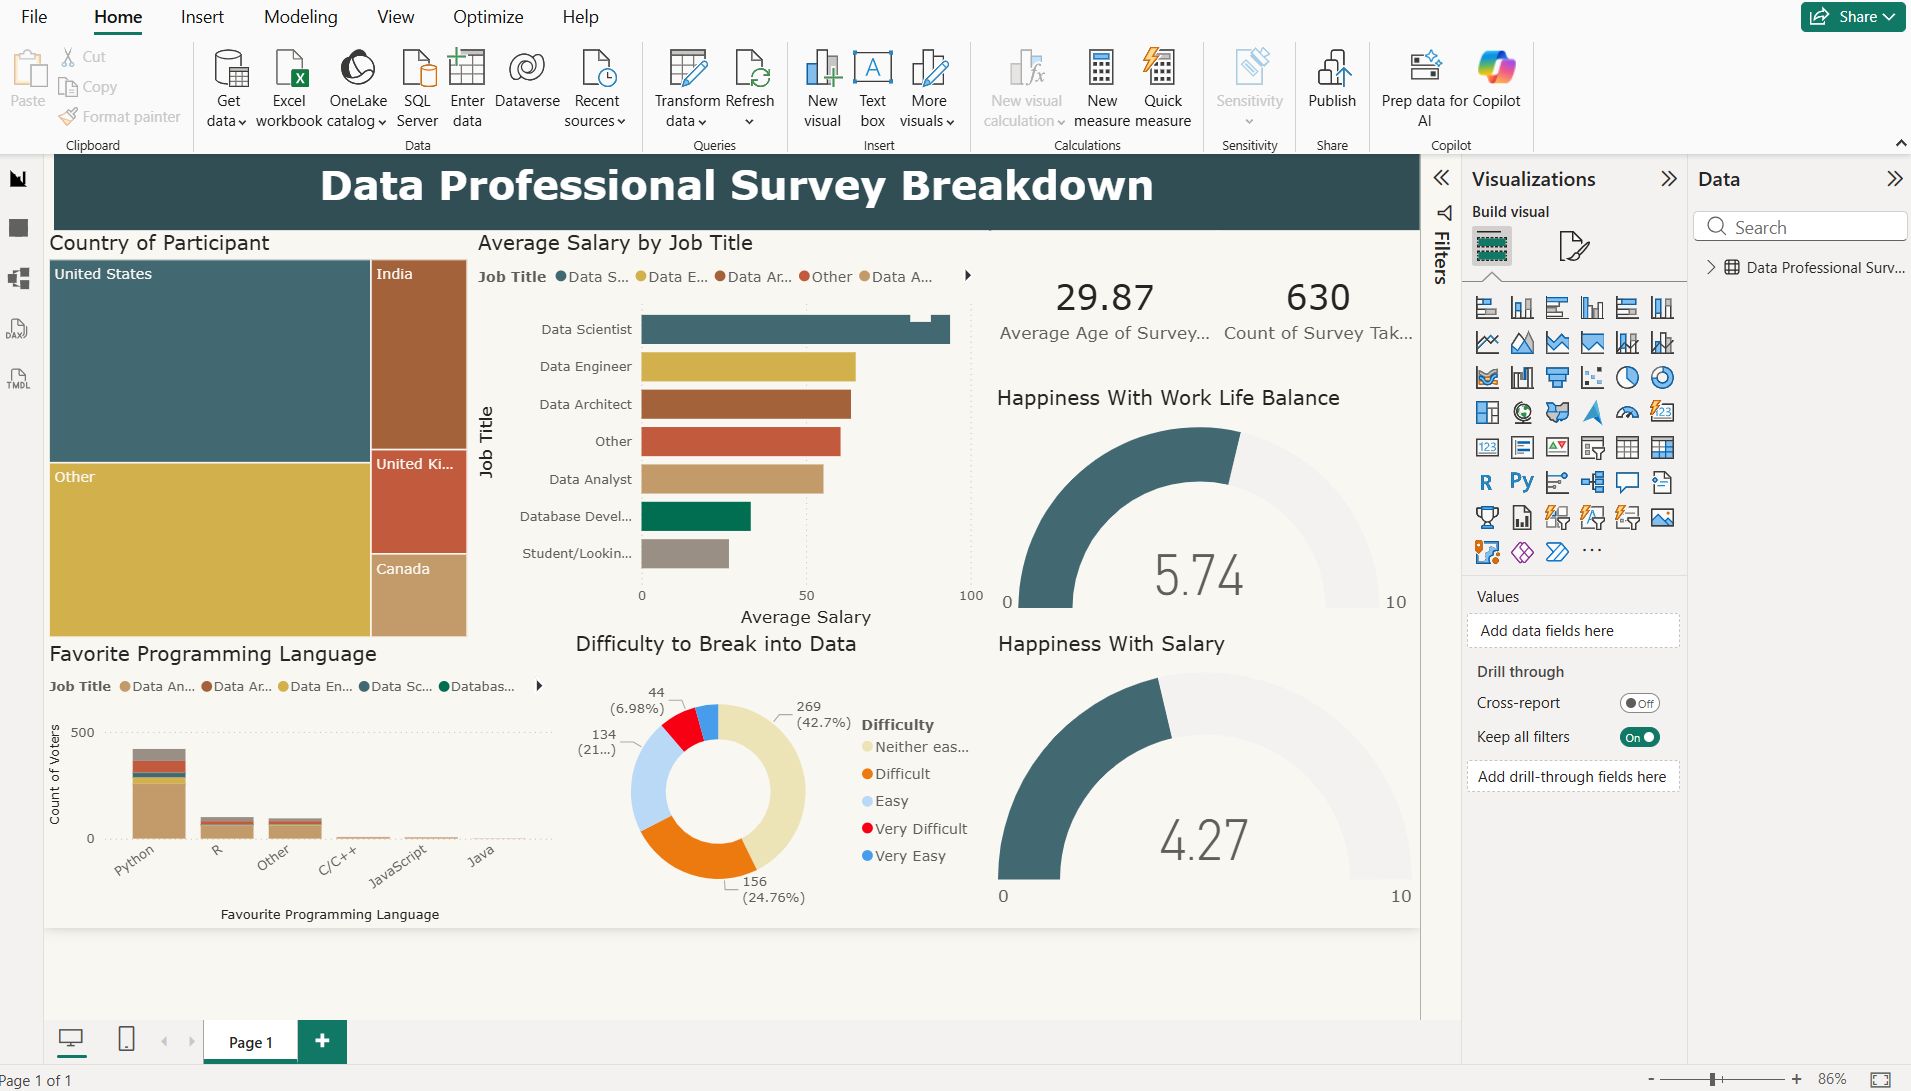

What the dashboard file says about the page in this screenshot:
{"tool":"powerbi","page":{"name":"Page 1","canvas":[1280,720],"ordinal":0},"visuals":[{"type":"textbox","box":[9.6,0,1270.7,71.4],"z":0},{"type":"card","fields":{"Values":["Count(Data Professional Survey.Unique ID)"]},"box":[1092.3,71.4,188,144.1],"z":1000},{"type":"card","fields":{"Values":["Avg(Data Professional Survey.Q10 - Current Age)"]},"box":[881,71.4,211.3,144.1],"z":2000},{"type":"barChart","title":"Average Salary by Job Title","fields":{"Category":["Data Professional Survey.Q1 - Which Title Best Fits your Current Role?.1"],"Y":["Avg(Data Professional Survey.Average Salary)"],"Series":["Data Professional Survey.Q1 - Which Title Best Fits your Current Role?.1"]},"box":[399.3,71.4,480.3,373.2],"z":3000},{"type":"columnChart","title":"Favorite Programming Language","fields":{"Category":["Data Professional Survey.Q5 - Favorite Programming Language.1"],"Y":["CountNonNull(Data Professional Survey.Unique ID)"],"Series":["Data Professional Survey.Q1 - Which Title Best Fits your Current Role?.1"]},"box":[0,454,480,266],"z":4000},{"type":"treemap","title":"Country of Participant","fields":{"Group":["Data Professional Survey.Q11 - Which Country do you live in?.1"],"Values":["CountNonNull(Data Professional Survey.Q11 - Which Country do you live in?.1)"]},"box":[0,70.9,398.8,383.7],"z":5000},{"type":"gauge","title":"Happiness With Work Life Balance","fields":{"Y":["Avg(Data Professional Survey.Q6 - How Happy are you in your Current Position with the following? (Work/Life Balance))"],"MinValue":["Min(Data Professional Survey.Q6 - How Happy are you in your Current Position with the following? (Work/Life Balance))1"],"MaxValue":["Max(Data Professional Survey.Q6 - How Happy are you in your Current Position with the following? (Work/Life Balance))2"]},"box":[881,215.4,396.6,229.2],"z":6000},{"type":"gauge","title":"Happiness With Salary","fields":{"Y":["Avg(Data Professional Survey.Q6 - How Happy are you in your Current Position with the following? (Salary))"],"MinValue":["Min(Data Professional Survey.Q6 - How Happy are you in your Current Position with the following? (Salary))"],"MaxValue":["Max(Data Professional Survey.Q6 - How Happy are you in your Current Position with the following? (Salary))"]},"box":[882.3,444.6,395.2,275.8],"z":7000},{"type":"donutChart","title":" Difficulty to Break into Data","fields":{"Category":["Data Professional Survey.Q7 - How difficult was it for you to break into Data?"],"Y":["CountNonNull(Data Professional Survey.Average Salary)"]},"box":[489.9,444.6,389.7,275.8],"z":8000},{"type":"qnaVisual","box":[805.5,144.1,19.2,12.3],"z":9000}]}

Visuals, with their boxes on the page's 1280x720 design canvas (x1, y1, x2, y2). These are canvas units, not pixel positions in the 1911x1091 screenshot, which may show the page scaled, cropped or inside an application window:
textbox: detection(10, 0, 1280, 71)
card - Count(Data Professional Survey.Unique ID): detection(1092, 71, 1280, 216)
card - Avg(Data Professional Survey.Q10 - Current Age): detection(881, 71, 1092, 216)
"Average Salary by Job Title" barChart: detection(399, 71, 880, 445)
"Favorite Programming Language" columnChart: detection(0, 454, 480, 720)
"Country of Participant" treemap: detection(0, 71, 399, 455)
"Happiness With Work Life Balance" gauge: detection(881, 215, 1278, 445)
"Happiness With Salary" gauge: detection(882, 445, 1278, 720)
" Difficulty to Break into Data" donutChart: detection(490, 445, 880, 720)
qnaVisual: detection(806, 144, 825, 156)
